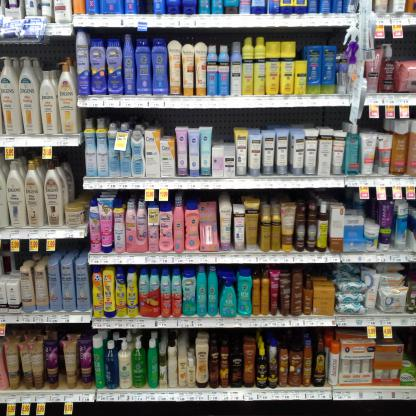Void: (70, 150, 85, 202), (215, 113, 233, 142), (396, 41, 414, 60), (163, 109, 171, 133)
